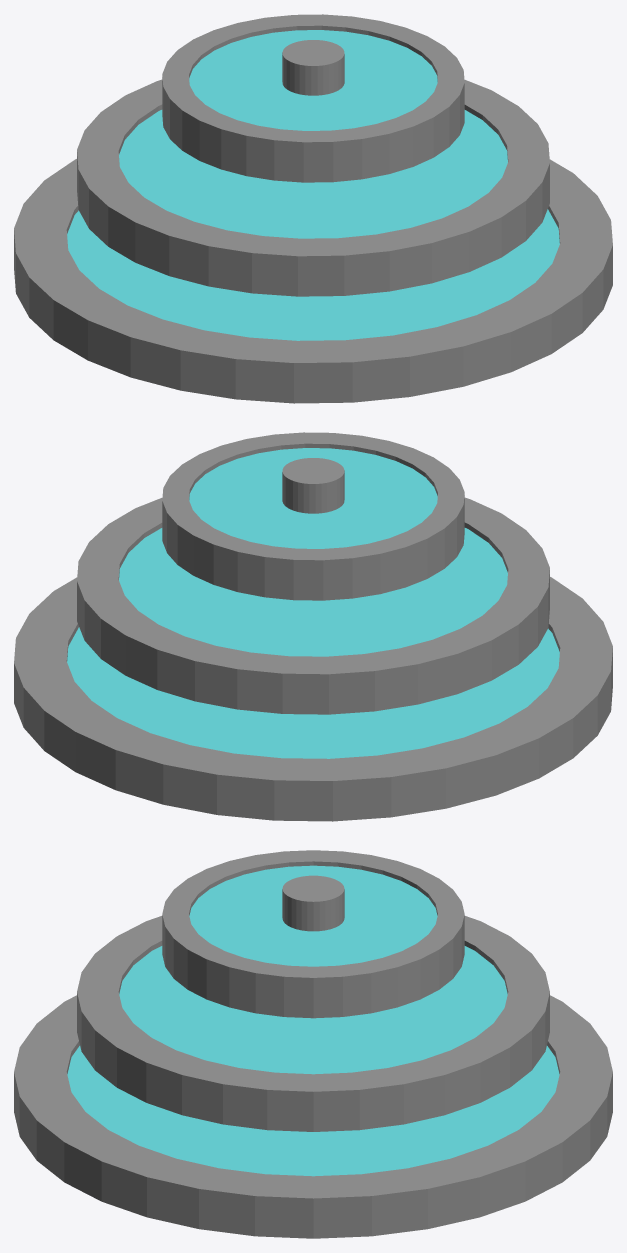
The model's file is fountain.fbx.
3 views of the same model, one above another, from view 1: azimuth 30°, elevation 25°; view 2: azimuth 150°, elevation 25°; view 3: azimuth 270°, elevation 25° (orthographic).
Parts seen in each view (by area): view 1: Cylinder.003, Cylinder.006; view 2: Cylinder.003, Cylinder.006; view 3: Cylinder.003, Cylinder.006.
Part boxes in pixels (x1,y1,x2,y2): Cylinder.003: [14, 14, 612, 403]; Cylinder.006: [67, 30, 559, 340]; Cylinder.003: [14, 432, 612, 821]; Cylinder.006: [67, 448, 559, 758]; Cylinder.003: [14, 850, 612, 1238]; Cylinder.006: [67, 865, 559, 1176].
Bounding box in the file's own units: 1930 × 1038 × 1930.
